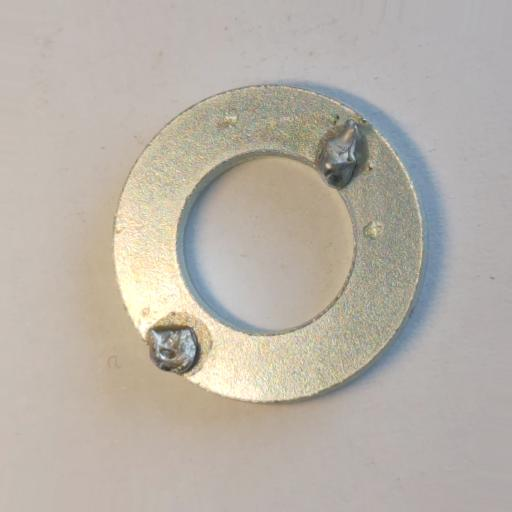excess_material: (314, 119, 367, 192), (148, 325, 198, 375)
